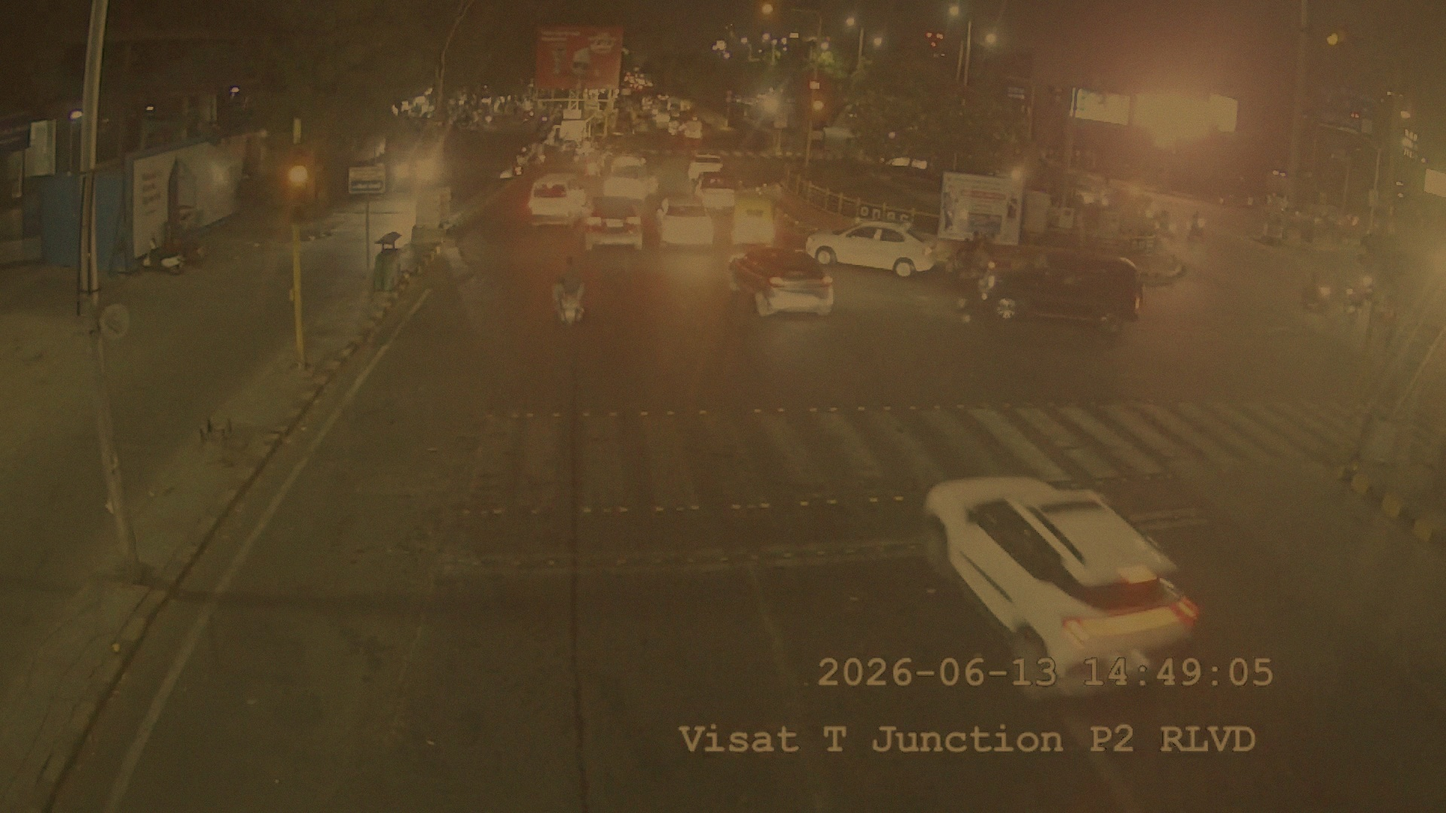auto_rickshaw: (908, 468, 1200, 673)
